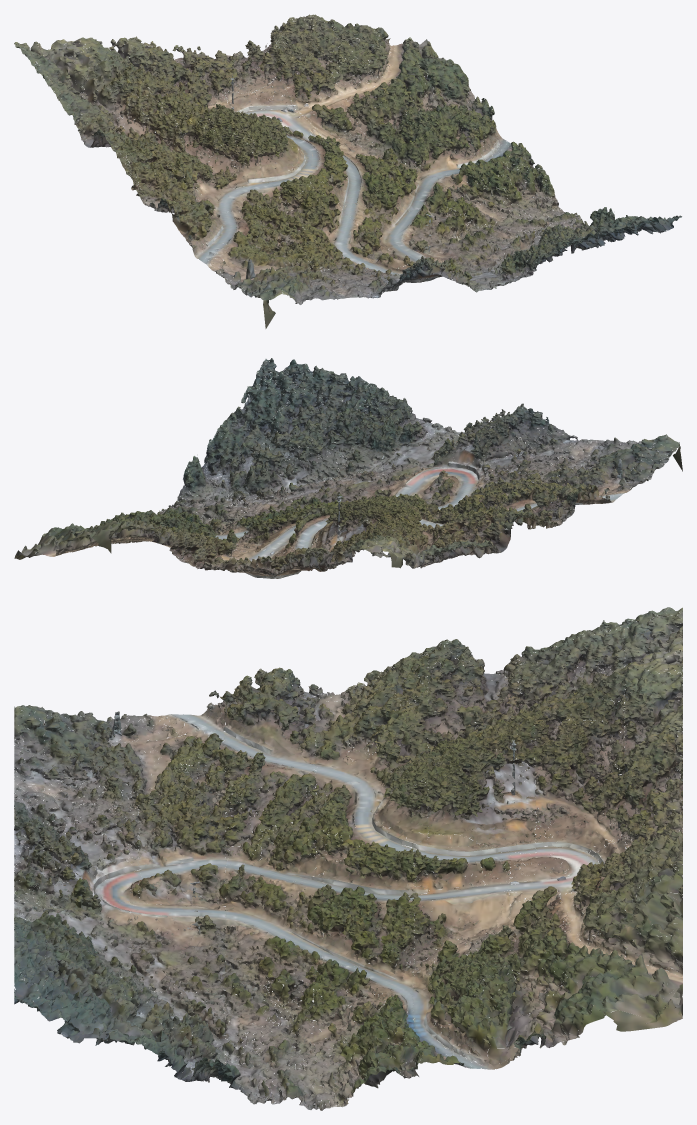
Rendered from road.glb.
The picture shows the model from 3 angles, top to bottom: view 1: azimuth 30°, elevation 25°; view 2: azimuth 150°, elevation 25°; view 3: azimuth 270°, elevation 25°; orthographic projection. The views are drawn at different scales.
Parts seen in each view (by area): view 1: Object_2, Object_17, Object_11, Object_4, Object_10, Object_18, Object_15, Object_6, Object_14, Object_9, Object_19, Object_13 (+7 smaller); view 2: Object_2, Object_8, Object_19, Object_5, Object_12, Object_16, Object_13, Object_6, Object_14, Object_7, Object_11, Object_20 (+7 smaller); view 3: Object_2, Object_19, Object_12, Object_15, Object_7, Object_17, Object_6, Object_20, Object_5, Object_16, Object_4, Object_14 (+7 smaller).
Part boxes in pixels (x1,y1,x2,y2): Object_2: [14, 14, 681, 328]; Object_17: [304, 43, 597, 275]; Object_11: [190, 16, 675, 290]; Object_4: [157, 54, 480, 249]; Object_10: [16, 42, 535, 245]; Object_18: [116, 43, 452, 215]; Object_15: [22, 38, 674, 309]; Object_6: [202, 130, 509, 268]; Object_14: [43, 62, 679, 303]; Object_9: [247, 158, 528, 248]; Object_19: [139, 38, 663, 292]; Object_13: [72, 56, 453, 287]; Object_2: [14, 358, 682, 572]; Object_8: [164, 385, 372, 539]; Object_19: [15, 386, 621, 557]; Object_5: [182, 412, 466, 557]; Object_12: [29, 427, 678, 573]; Object_16: [114, 365, 530, 521]; Object_13: [370, 417, 568, 566]; Object_6: [228, 455, 457, 555]; Object_14: [122, 360, 657, 576]; Object_7: [211, 384, 456, 578]; Object_11: [64, 358, 569, 576]; Object_20: [267, 443, 649, 578]; Object_2: [14, 607, 682, 1110]; Object_19: [14, 657, 682, 1103]; Object_12: [14, 692, 682, 1066]; Object_15: [14, 614, 682, 1110]; Object_7: [44, 697, 625, 1062]; Object_17: [34, 841, 627, 991]; Object_6: [129, 752, 510, 995]; Object_20: [43, 693, 625, 855]; Object_5: [45, 834, 625, 1000]; Object_16: [14, 793, 490, 1097]; Object_4: [224, 709, 625, 990]; Object_14: [14, 627, 625, 1063].
Bounding box in the file's own units: 337 × 137 × 353.
1 material, 1 textured.
